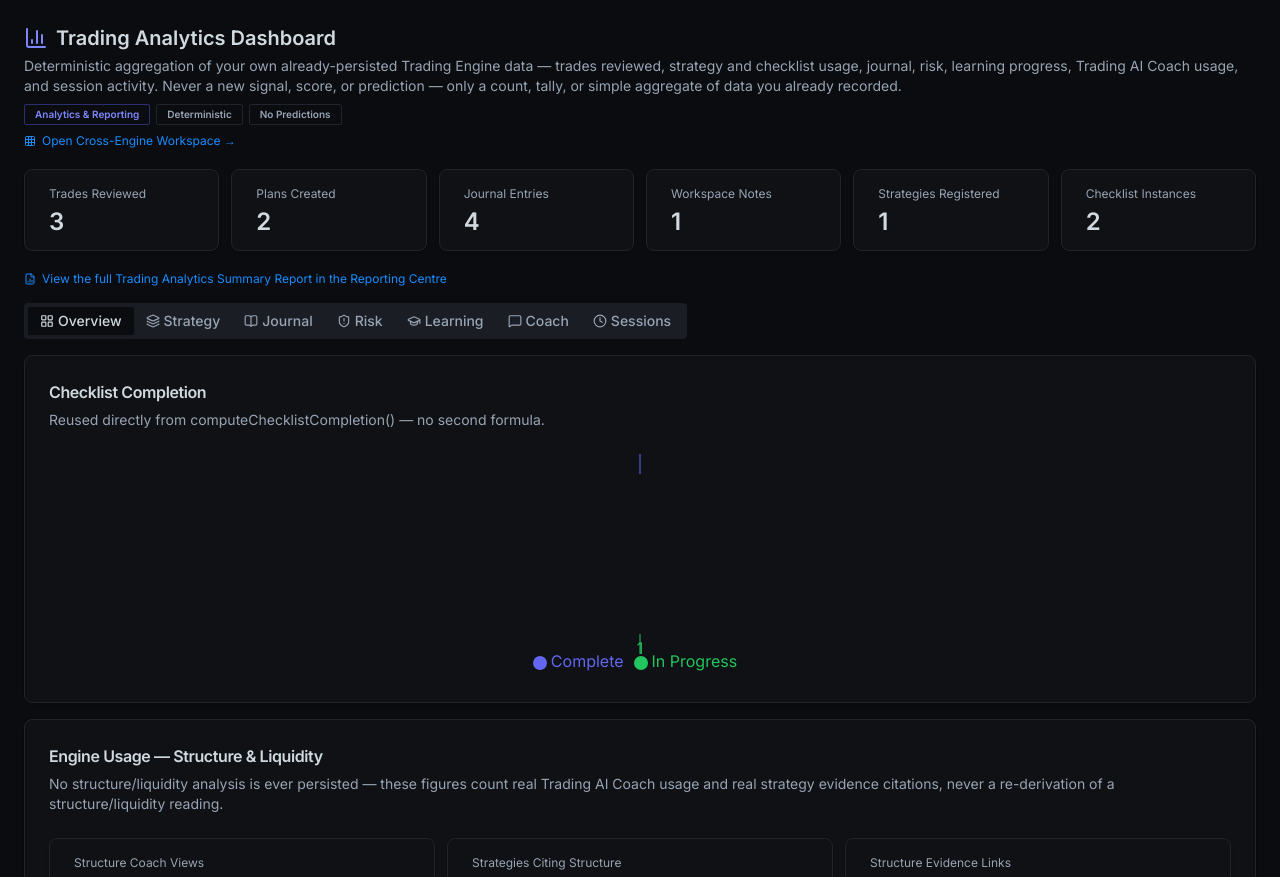
Scenario: TradingAnalyticsDashboard page › Risk tab shows the stop/target discipline chart and risk/reward distribution for real data
This screenshot has width=1280, height=877.
Click the tab with test id "tab-risk-analytics" at coordinates (360, 321), box [325, 307, 395, 335]
(page scrolled)
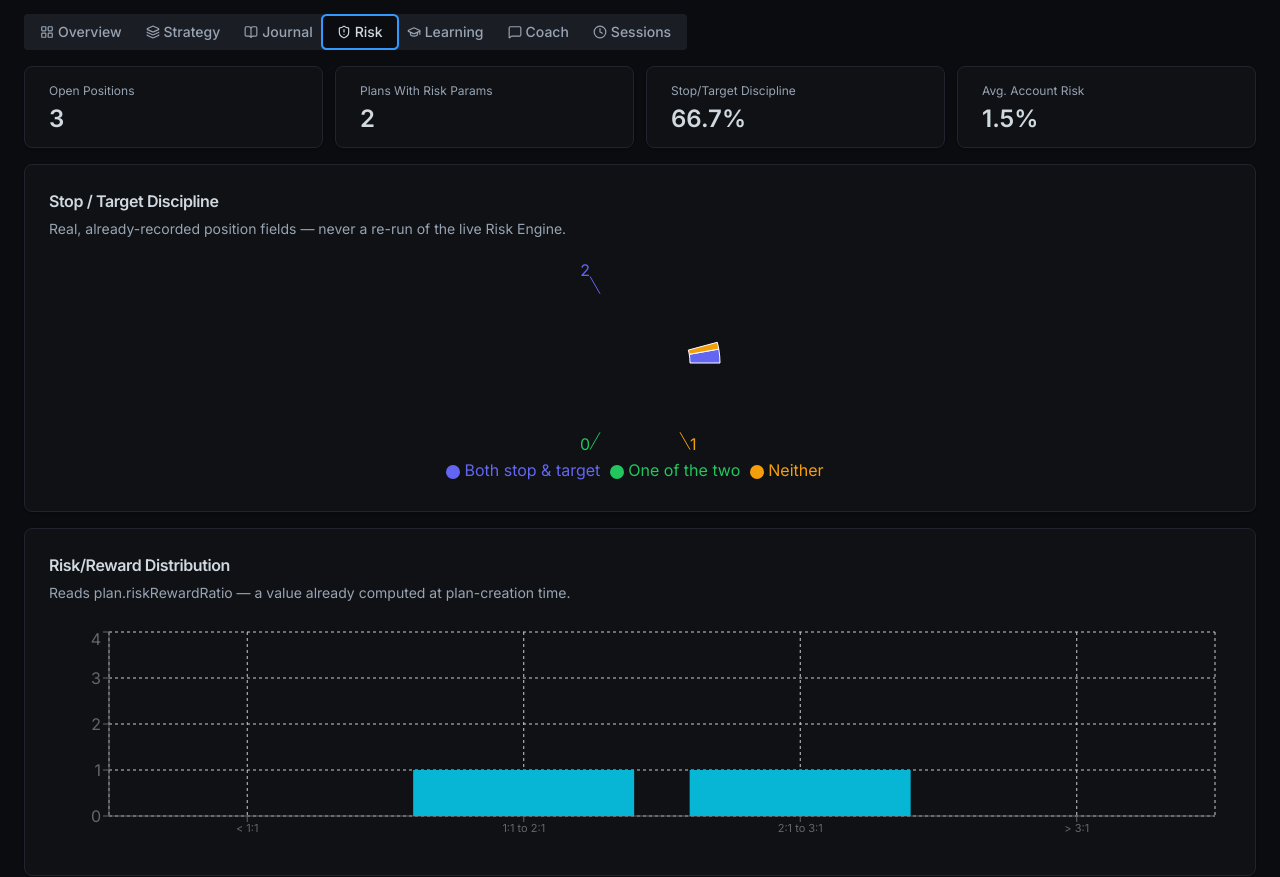
Now the element with test id "kpi-open-positions" shows "3", box [49, 104, 64, 133]
Now the element with test id "chart-stop-target-discipline" is shown, box [49, 263, 1231, 487]
Now the element with test id "chart-riskreward-distribution" is shown, box [49, 627, 1231, 851]
